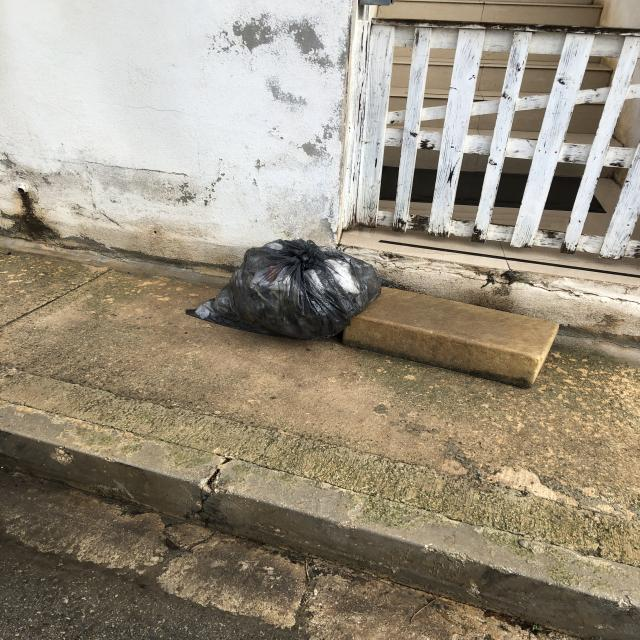Mixed Waste -Black Bag-: (184, 241, 382, 341)
